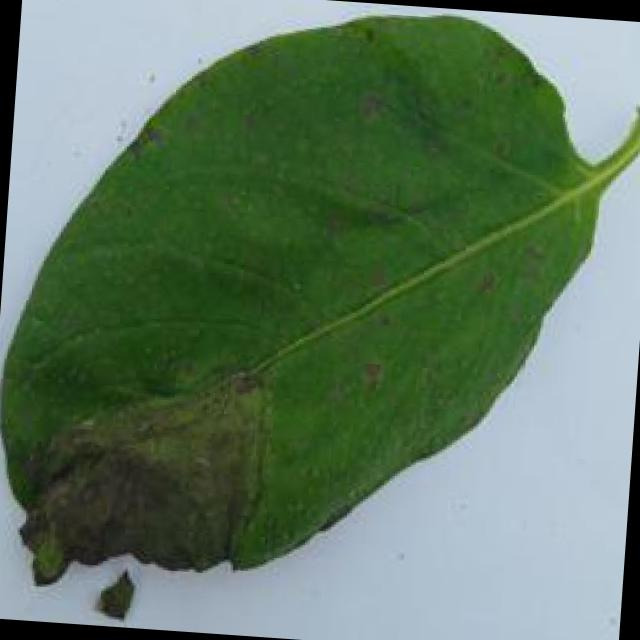Potato_Late_Blight: (0, 0, 623, 575)
